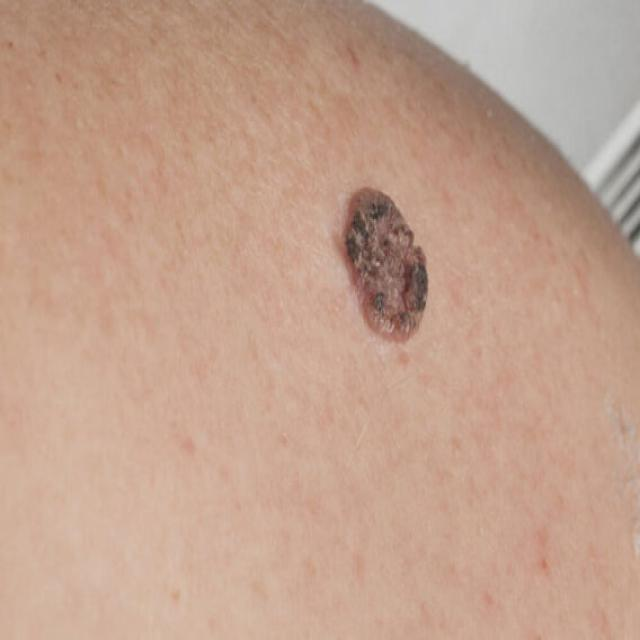Cancer: (326, 163, 442, 366)
